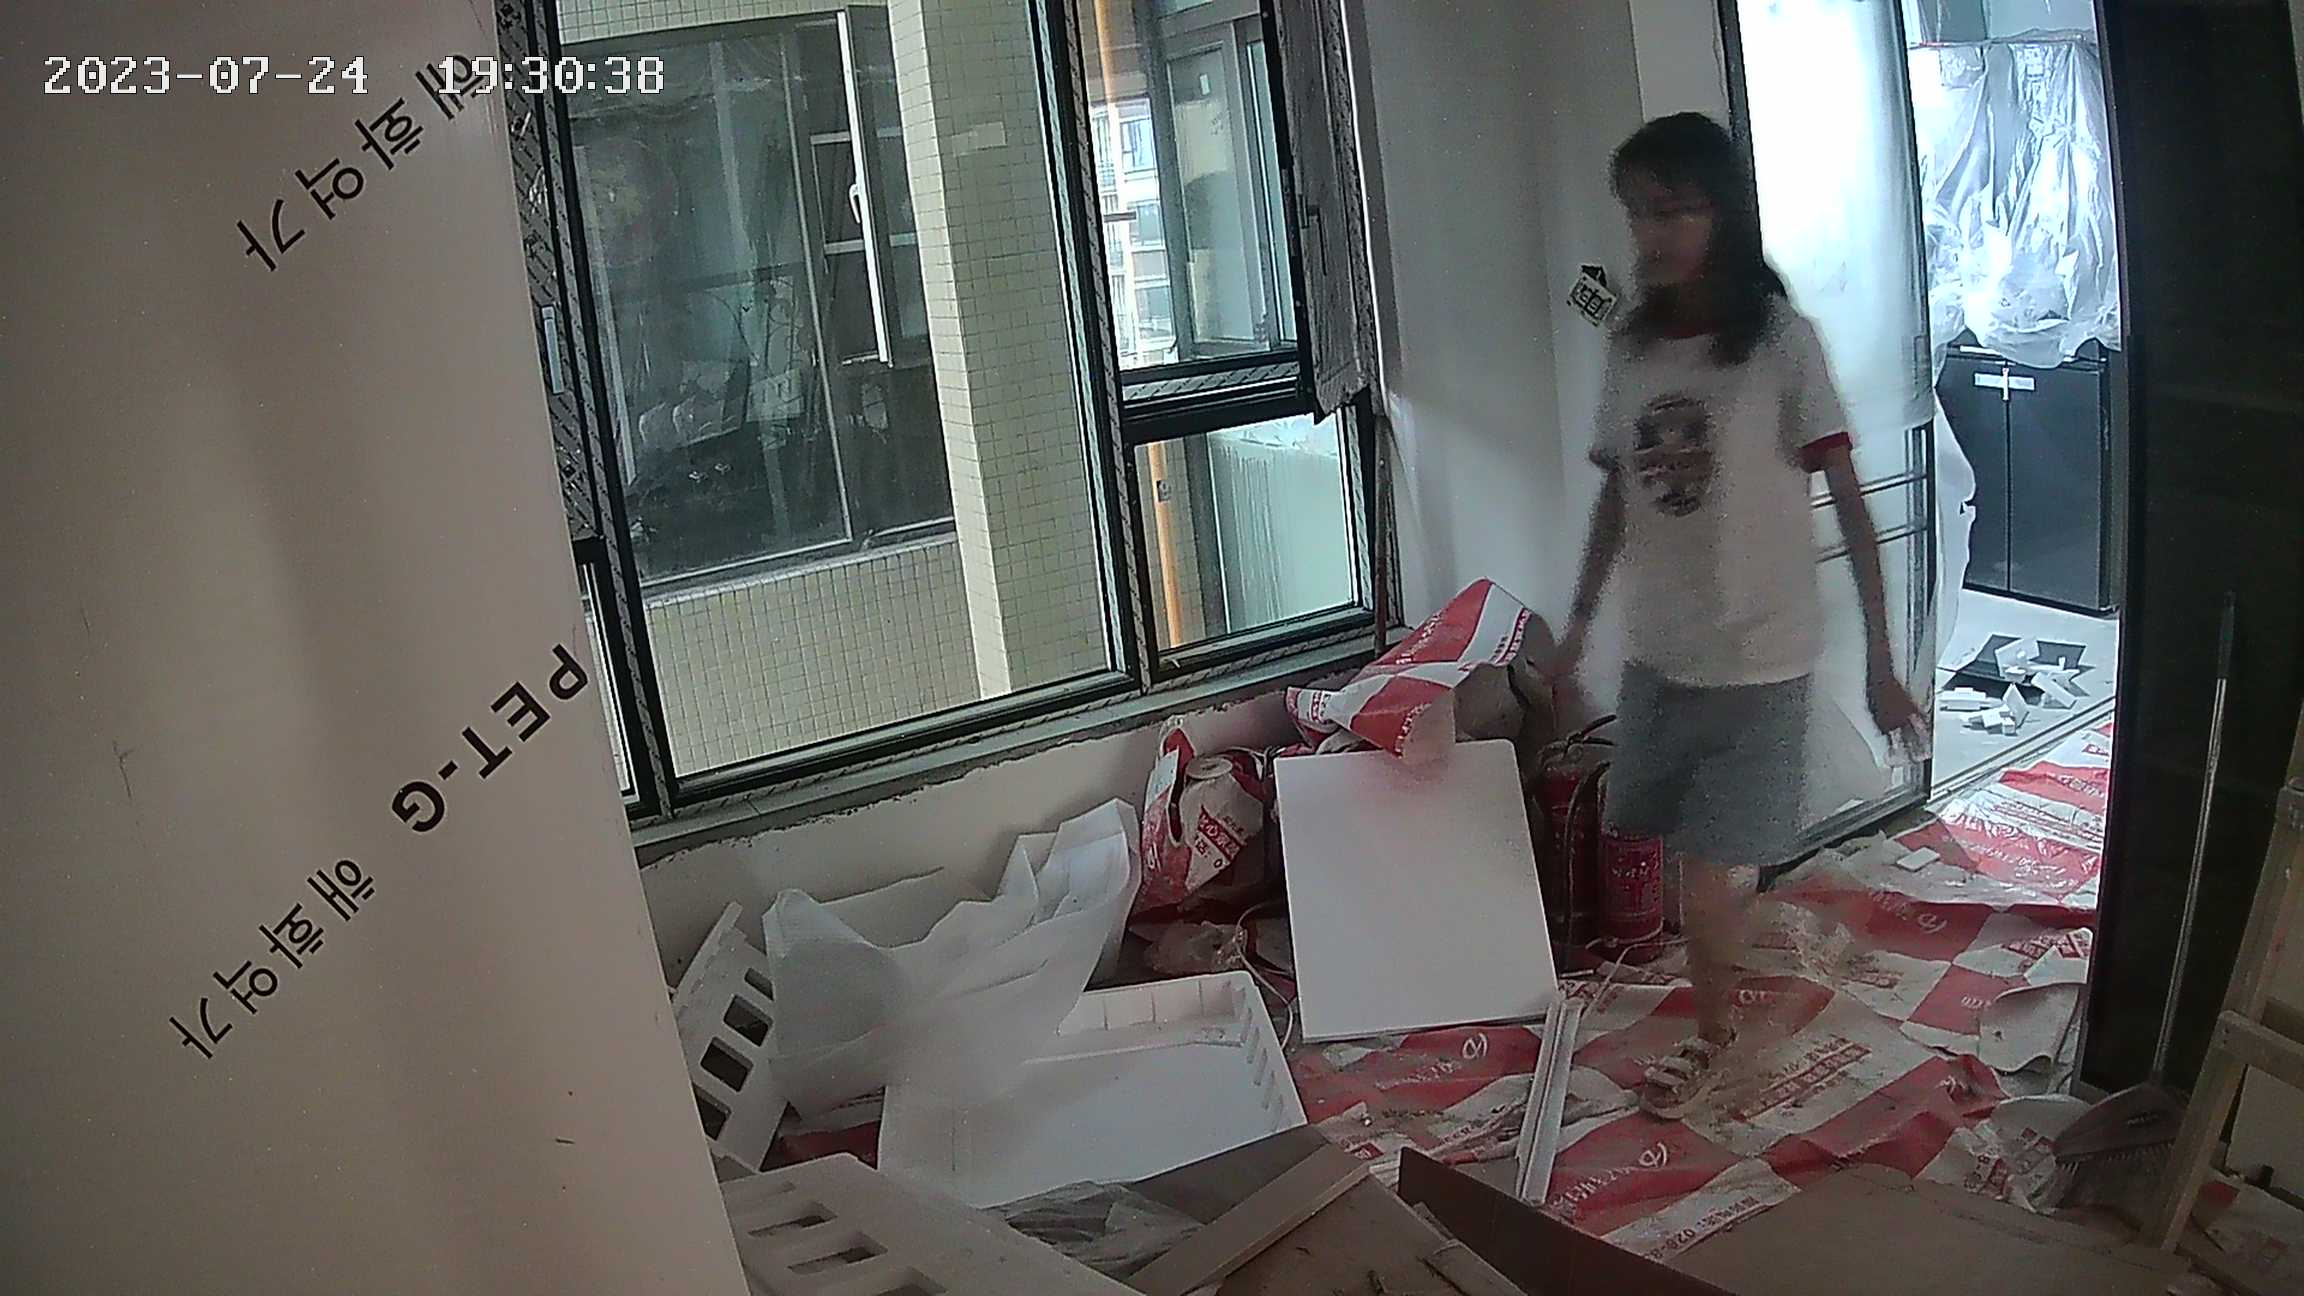people: (1539, 115, 1923, 1113)
window: (520, 1, 1370, 648)
